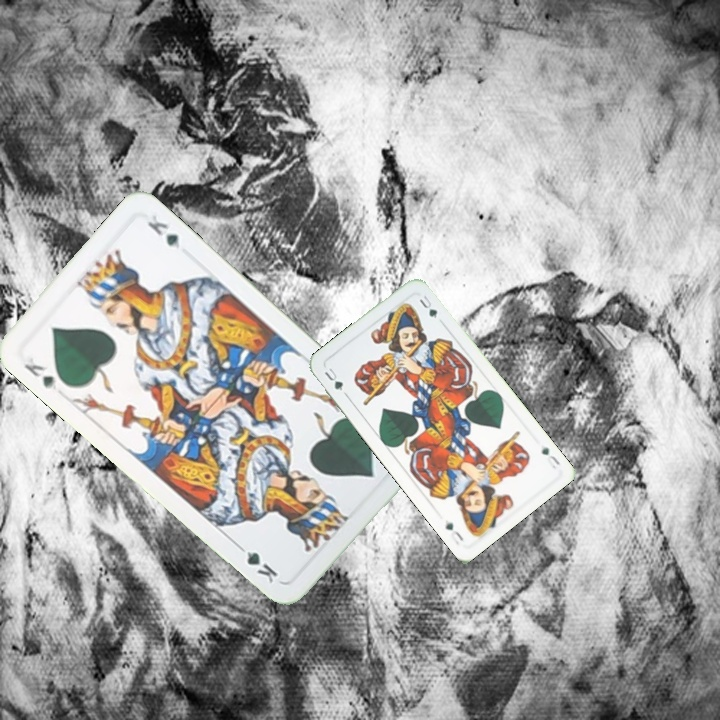GK: (19, 353, 61, 392)
GU: (320, 364, 350, 398), (537, 442, 563, 471)
